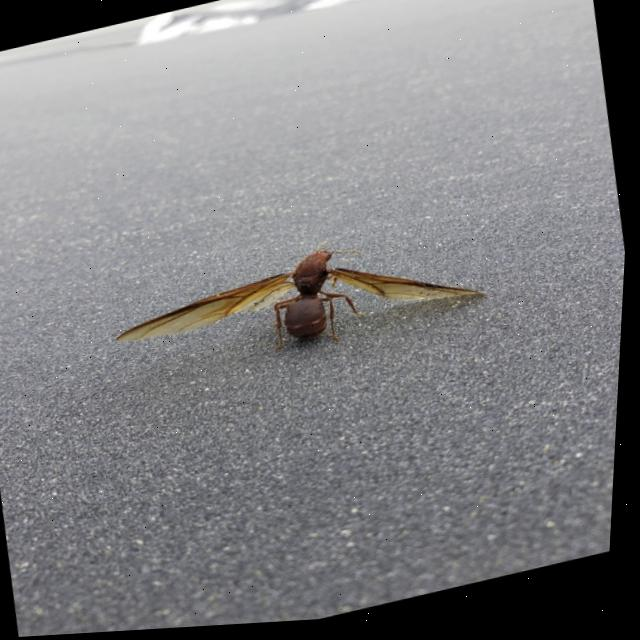Alive-Female-Alate: (108, 210, 496, 394)
